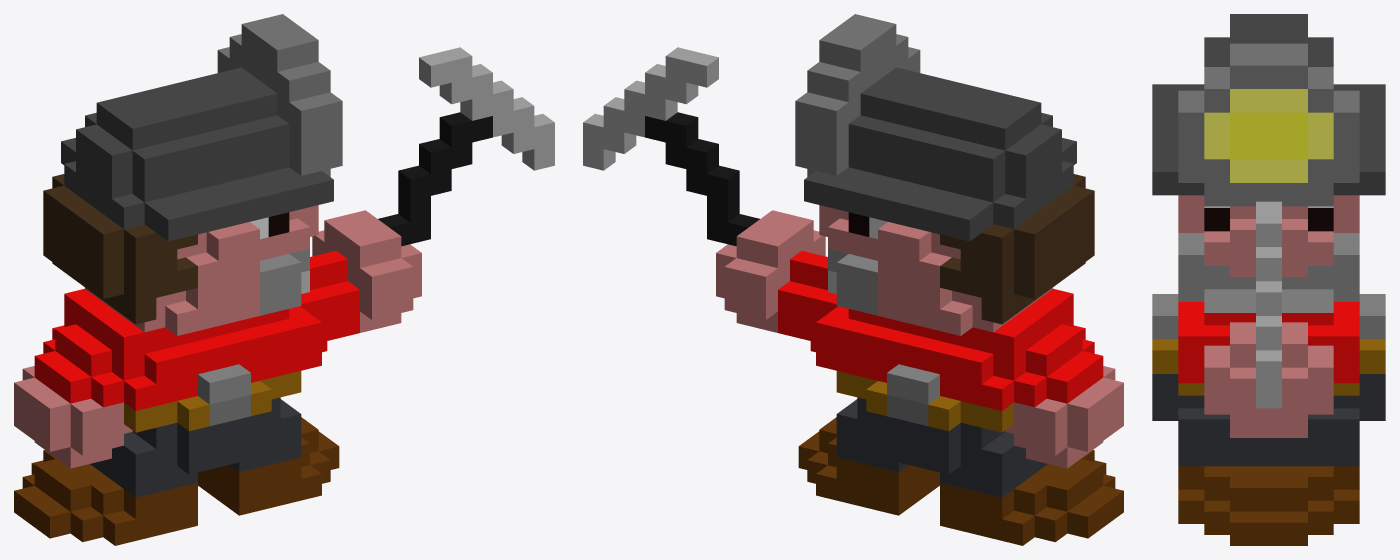
The model's file is PickaxeAnim-02.obj.
3 renders of one model, left to right at view 1: azimuth 30°, elevation 25°; view 2: azimuth 150°, elevation 25°; view 3: azimuth 270°, elevation 25°, orthographic. The views are drawn at different scales.
Size of the model in its own units: 25 by 20 by 9.
Materials: 1 (1 with a texture image).
